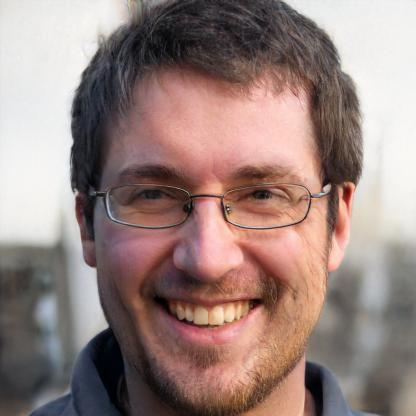glasses: (98, 176, 314, 230)
